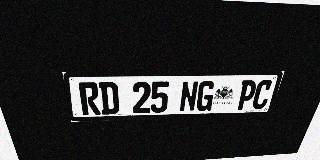2: (133, 81, 151, 113)
5: (151, 81, 169, 113)
C: (250, 80, 274, 109)
D: (98, 82, 119, 115)
G: (195, 81, 216, 111)
N: (179, 81, 199, 112)
P: (235, 80, 258, 110)
R: (78, 82, 101, 115)
